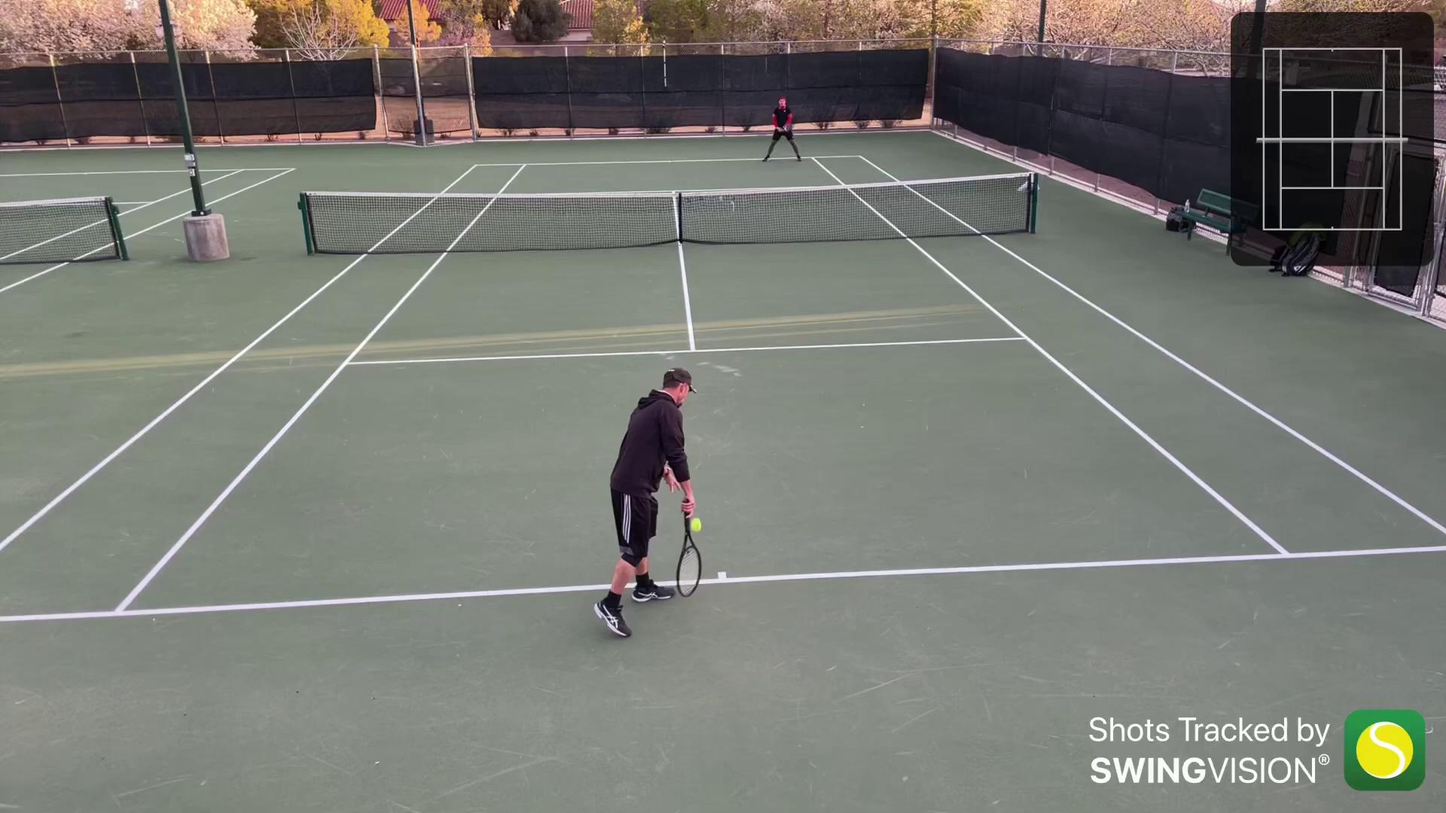ball: (687, 514, 705, 534)
